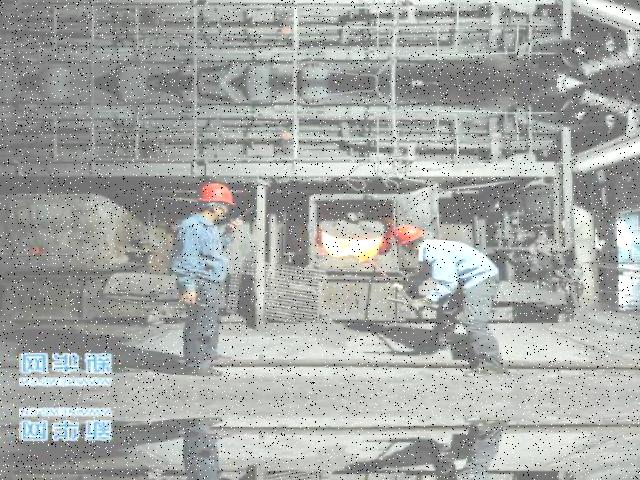Helmet: (197, 178, 241, 218), (386, 218, 432, 251)
